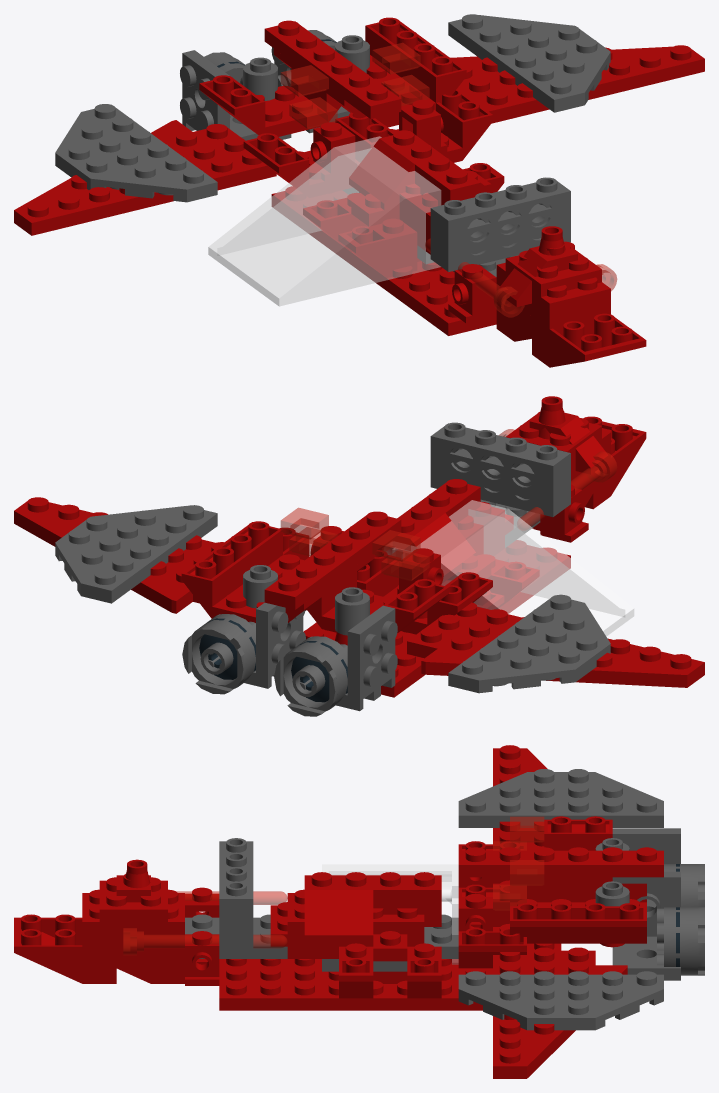
Rendered from 003-generated_fighter_jet.glb.
3 renders of one model, top to bottom at view 1: azimuth 30°, elevation 25°; view 2: azimuth 150°, elevation 25°; view 3: azimuth 270°, elevation 25°, orthographic. The views are drawn at different scales.
Parts seen in each view (by area): view 1: 4474.dat, 2419.dat (×2), 4871.dat (×3), 3701.dat (×2), 3934.dat, 3039.dat (×3), 3933.dat, 4854.dat, 4070.dat (×3), 3030.dat, 3747a.dat (×2), 3666.dat (+11 smaller); view 2: 2419.dat (×2), 4474.dat, 3701.dat (×2), 3934.dat, 3941.dat (×2), 4871.dat (×3), 3956.dat (×2), 4854.dat, 3933.dat, 3666.dat, 3039.dat (×2), 3070b.dat (×4) (+13 smaller); view 3: 2419.dat (×2), 3039.dat (×4), 3030.dat, 4854.dat, 3747a.dat (×2), 4871.dat (×3), 3933.dat, 3666.dat, 3956.dat (×2), 3701.dat (×2), 3941.dat (×2), 4070.dat (×3) (+13 smaller).
Part boxes in pixels (<box>): 4474.dat: <box>208,136,441,306</box>; 2419.dat (×2): <box>55,14,610,202</box>; 4871.dat (×3): <box>199,68,492,197</box>; 3701.dat (×2): <box>430,177,570,271</box>; 3934.dat: <box>14,120,276,235</box>; 3039.dat (×3): <box>349,130,610,328</box>; 3933.dat: <box>450,45,704,123</box>; 4854.dat: <box>273,17,466,127</box>; 4070.dat (×3): <box>309,99,496,323</box>; 3030.dat: <box>271,186,496,335</box>; 3747a.dat (×2): <box>496,291,646,367</box>; 3666.dat: <box>264,20,401,118</box>; 2419.dat (×2): <box>55,505,610,693</box>; 4474.dat: <box>386,500,634,636</box>; 3701.dat (×2): <box>430,422,570,516</box>; 3934.dat: <box>407,602,704,687</box>; 3941.dat (×2): <box>182,614,347,716</box>; 4871.dat (×3): <box>279,527,492,634</box>; 3956.dat (×2): <box>244,602,397,711</box>; 4854.dat: <box>181,521,374,622</box>; 3933.dat: <box>14,497,223,613</box>; 3666.dat: <box>264,511,401,609</box>; 3039.dat (×2): <box>379,479,480,583</box>; 3070b.dat (×4): <box>280,507,429,580</box>; 2419.dat (×2): <box>458,769,663,1030</box>; 3039.dat (×4): <box>82,872,441,946</box>; 3030.dat: <box>219,943,561,1010</box>; 4854.dat: <box>510,877,646,943</box>; 3747a.dat (×2): <box>14,914,184,983</box>; 4871.dat (×3): <box>458,816,612,968</box>; 3933.dat: <box>493,947,627,1078</box>; 3666.dat: <box>458,847,663,877</box>; 3956.dat (×2): <box>612,828,680,980</box>; 3701.dat (×2): <box>219,838,253,948</box>; 3941.dat (×2): <box>657,864,704,975</box>; 4070.dat (×3): <box>185,887,492,985</box>.
Size of the model in its own units: 0.176 by 0.0352 by 0.1616.
